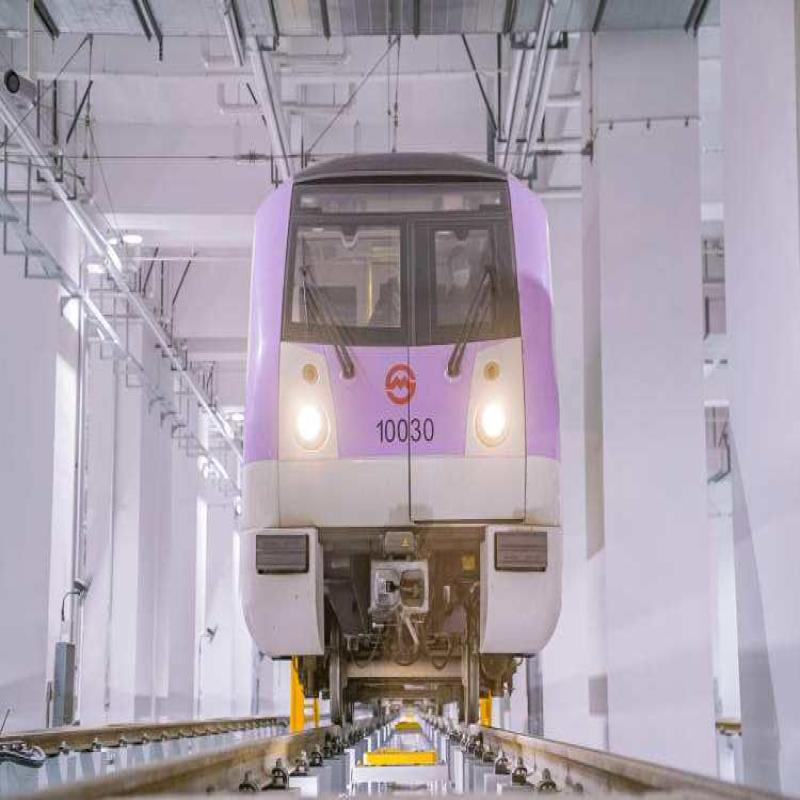train: (249, 161, 566, 708)
